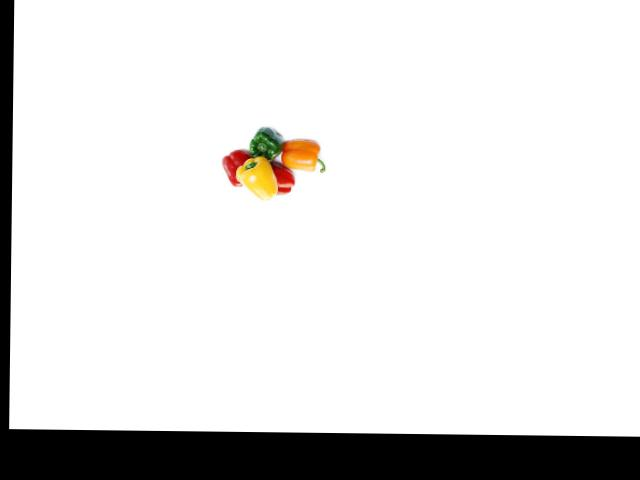bell_pepper: (241, 121, 285, 170)
